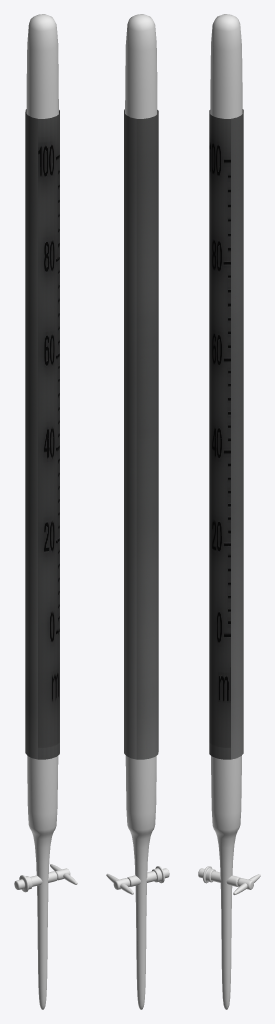
File: Pipet buret 1.fbx
The picture shows the model from 3 angles, left to right: view 1: azimuth 30°, elevation 25°; view 2: azimuth 210°, elevation 25°; view 3: azimuth 330°, elevation 25°; orthographic projection.
Visible parts, largest first — view 1: Cube.027, Cube.062, Cube.025, Cube.026; view 2: Cube.027, Cube.062, Cube.025, Cube.026; view 3: Cube.027, Cube.062, Cube.025, Cube.026.
Part boxes in pixels (bbox=[...]): Cube.027: bbox=[25, 109, 59, 759]; Cube.062: bbox=[26, 14, 58, 1009]; Cube.025: bbox=[50, 864, 77, 884]; Cube.026: bbox=[14, 875, 32, 892]; Cube.027: bbox=[124, 109, 158, 759]; Cube.062: bbox=[125, 14, 157, 1009]; Cube.025: bbox=[106, 873, 133, 894]; Cube.026: bbox=[152, 866, 169, 883]; Cube.027: bbox=[209, 109, 243, 759]; Cube.062: bbox=[210, 14, 242, 1009]; Cube.025: bbox=[233, 874, 260, 895]; Cube.026: bbox=[198, 866, 215, 883].
Bounding box in the file's own units: 0.0372 × 0.674 × 0.0318.
Materials: 2 (1 with a texture image).
